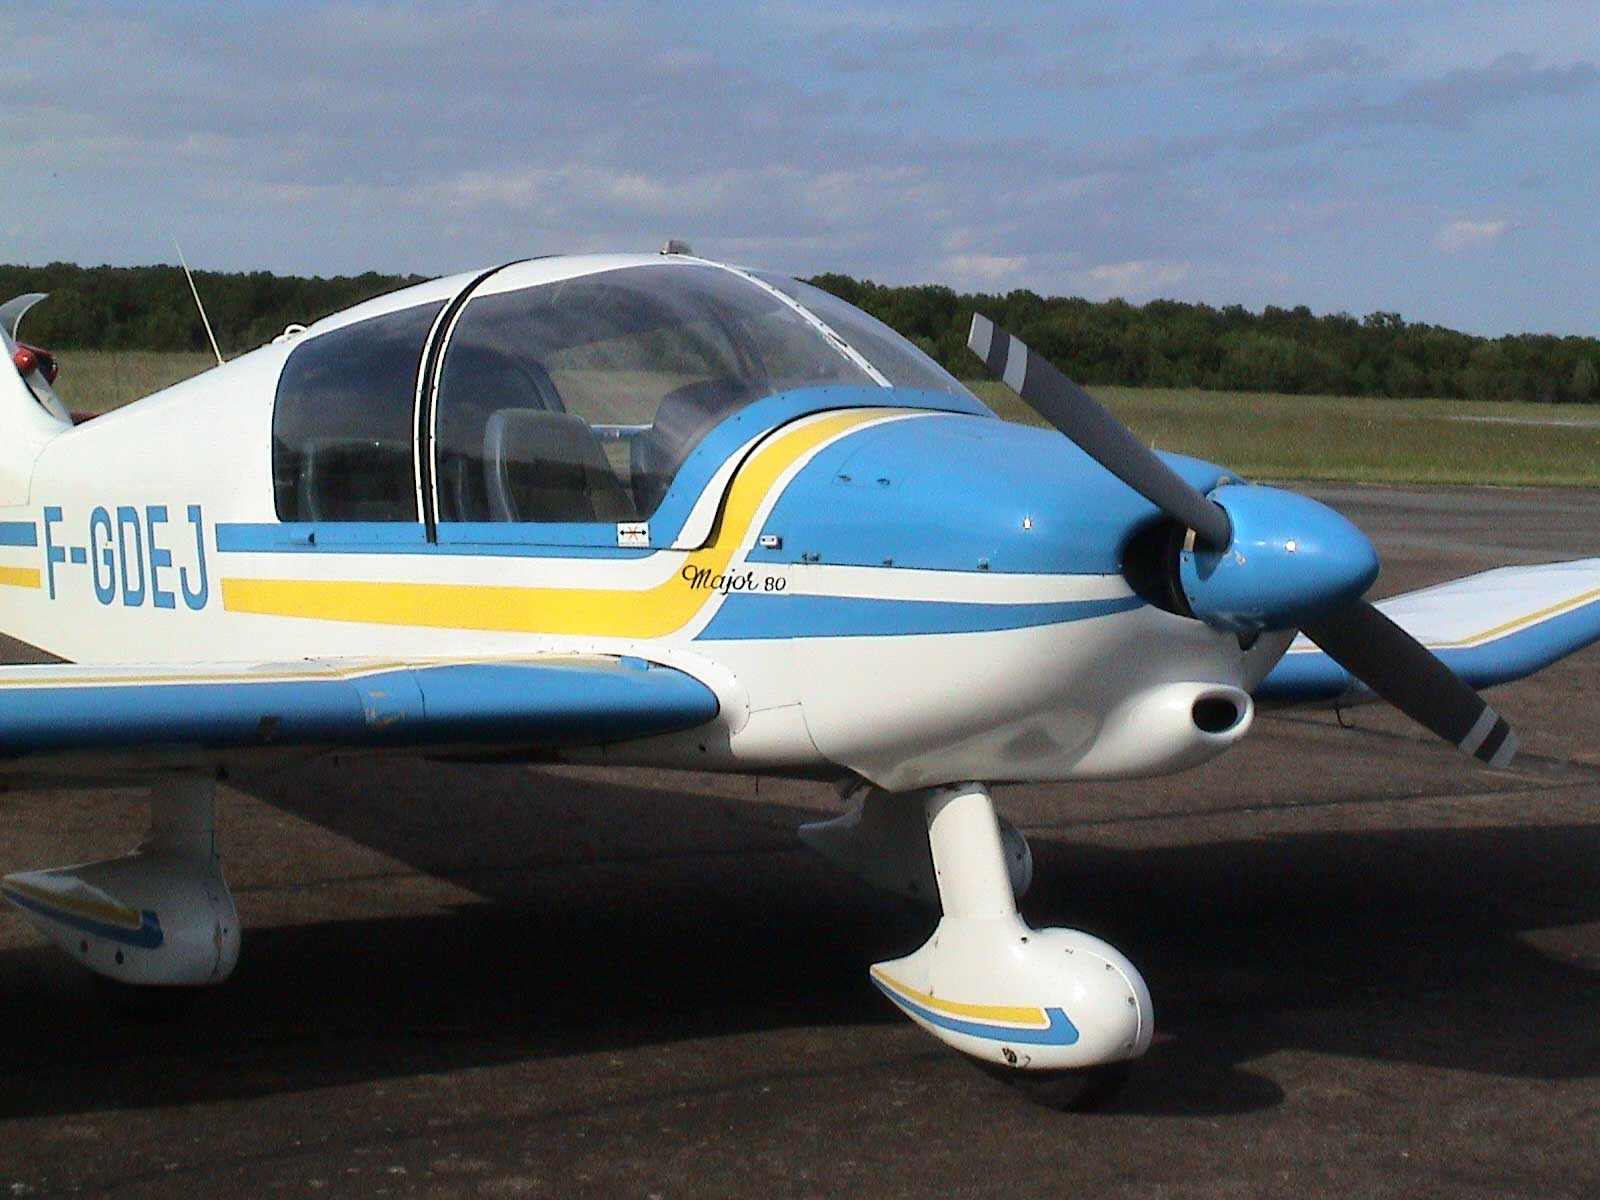Aeronef_de_loisir: (1, 258, 1597, 1129)
